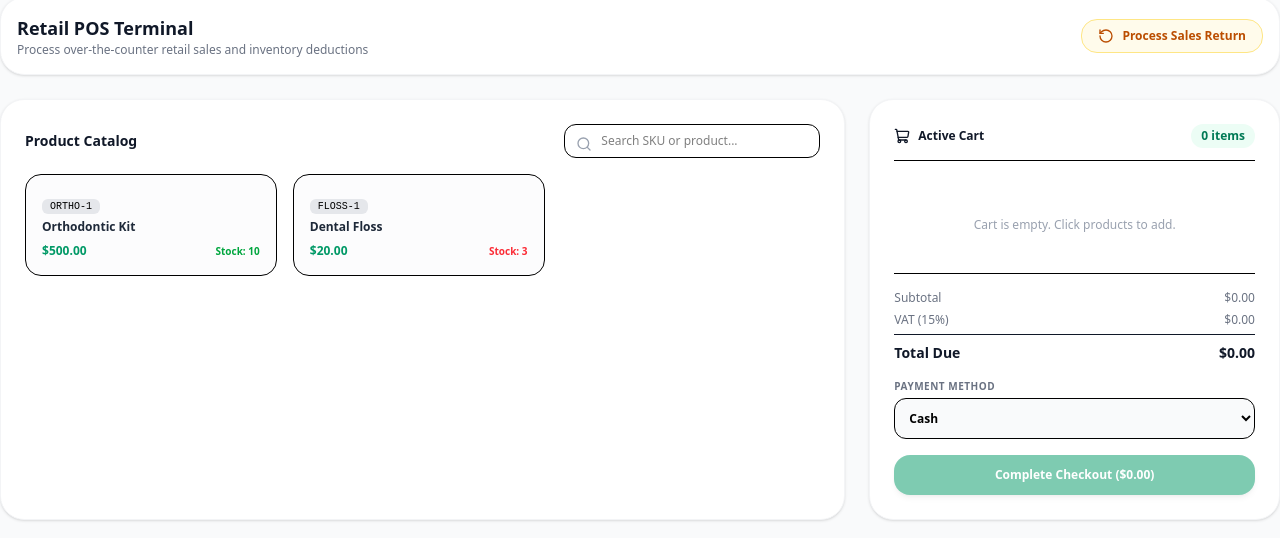
Test: RetailPOSView (FR-SAL-001) › calculates subtotal, 15% VAT and total from item quantity
The image size is (1280, 538).
Click the heading "Orthodontic Kit": x=89, y=226 [42,218,135,235]
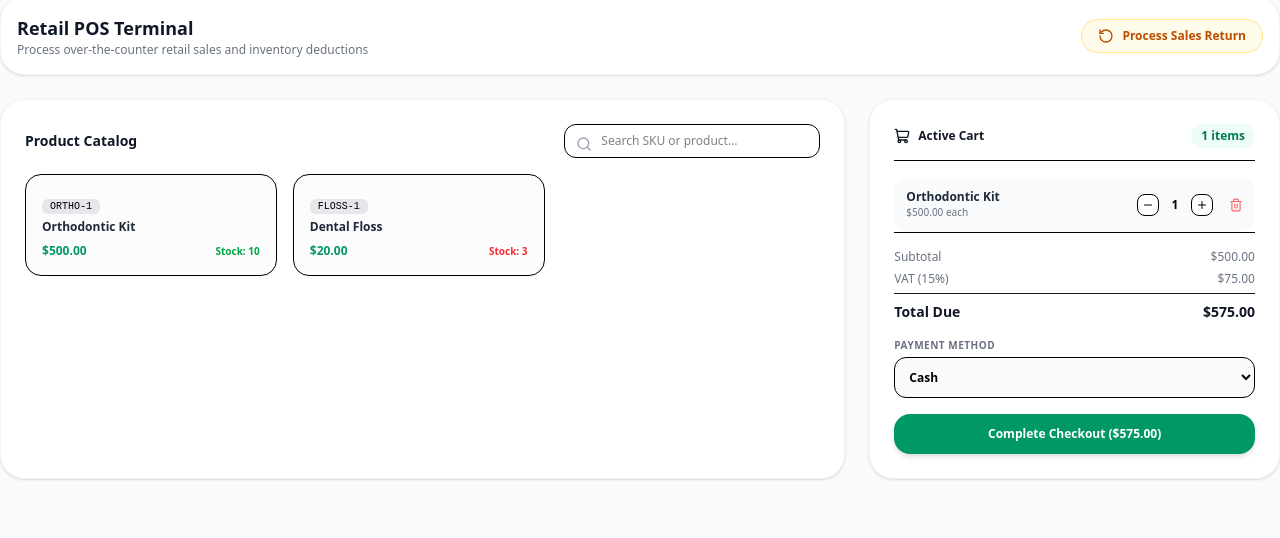
Click the heading "Orthodontic Kit" below "ORTHO-1": x=89, y=226 [42,218,135,235]
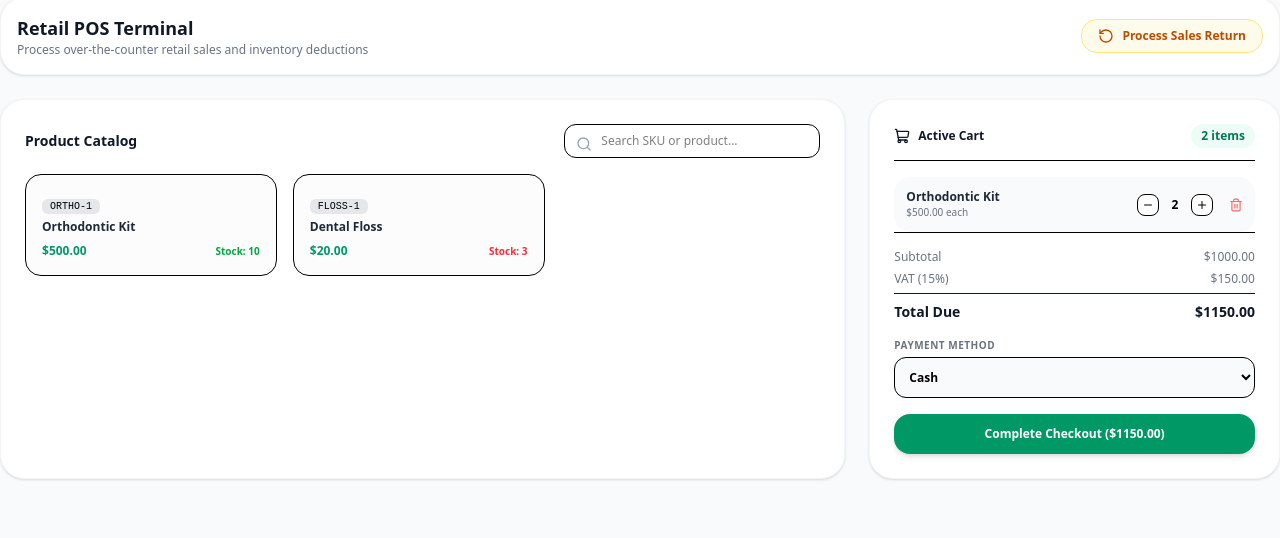
expect the text "2 items" is shown: met, box [1191,124,1255,148]
expect the text "$1000.00" is shown: met, box [1204,249,1255,265]
expect the text "$150.00" is shown: met, box [1211,271,1255,287]
